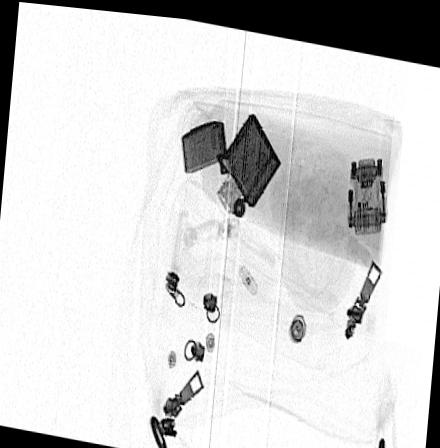Lighter: (180, 107, 280, 214)
